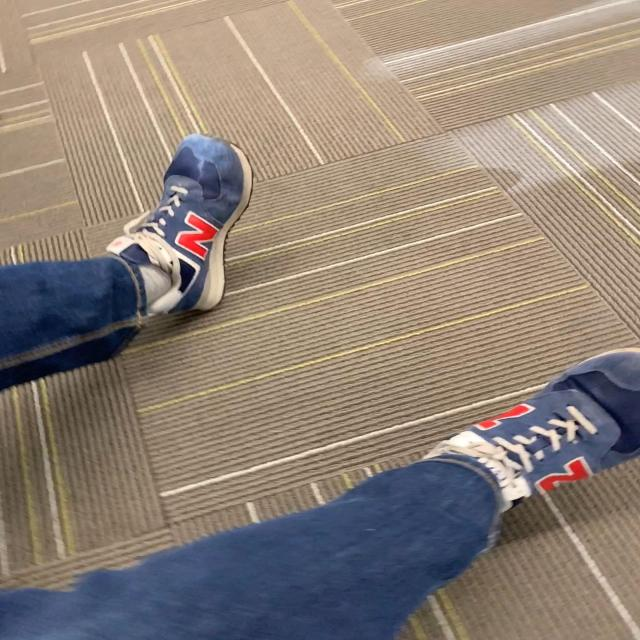shoe: (426, 350, 640, 517), (105, 134, 254, 317)
